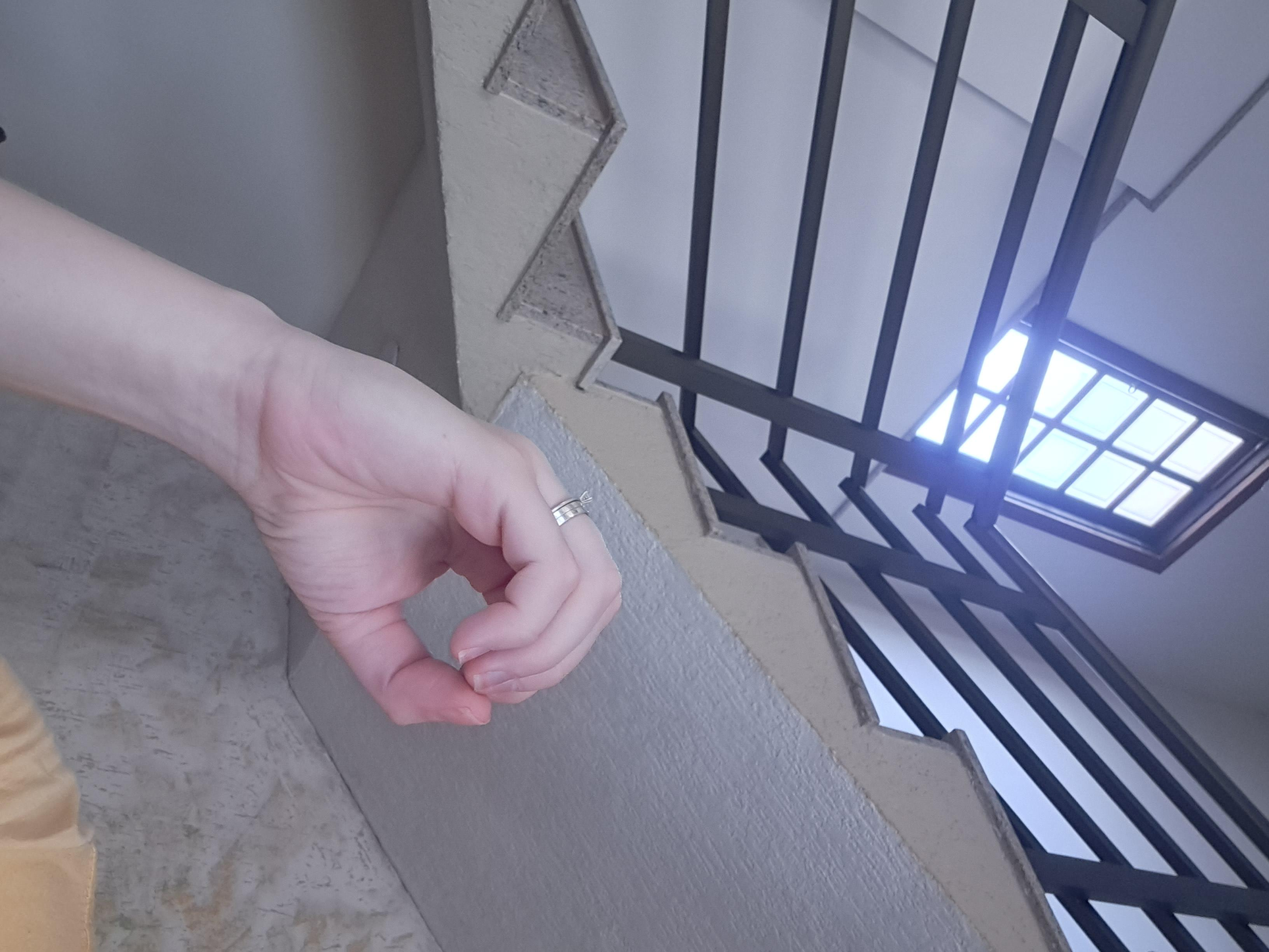O: (446, 464, 985, 790)
